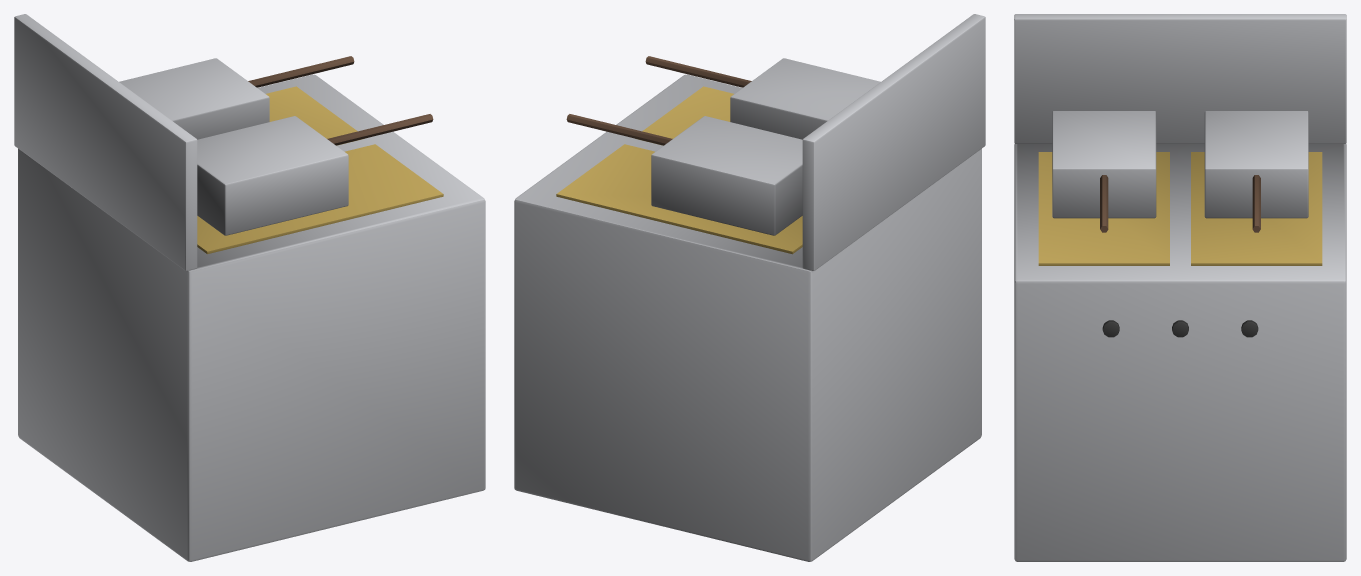
Rendered from fryer.glb.
3 renders of one model, left to right at view 1: azimuth 30°, elevation 25°; view 2: azimuth 150°, elevation 25°; view 3: azimuth 270°, elevation 25°, orthographic. The views are drawn at different scales.
Visible parts, largest first — view 1: boat_steel3, boat_oil, boat_darkwood; view 2: boat_steel3, boat_oil, boat_darkwood; view 3: boat_steel3, boat_oil, boat_darkwood, boat_dartblack.
Part boxes in pixels (x1,y1,x2,y2): boat_steel3: (14, 14, 485, 561); boat_oil: (197, 86, 443, 254); boat_darkwood: (248, 56, 433, 145); boat_steel3: (514, 14, 985, 561); boat_oil: (556, 86, 802, 254); boat_darkwood: (566, 56, 751, 145); boat_steel3: (1014, 14, 1346, 561); boat_oil: (1038, 152, 1322, 265); boat_darkwood: (1100, 175, 1260, 232); boat_dartblack: (1102, 320, 1258, 337).
Bounding box in the file's own units: 0.985 × 1.3 × 0.96.
